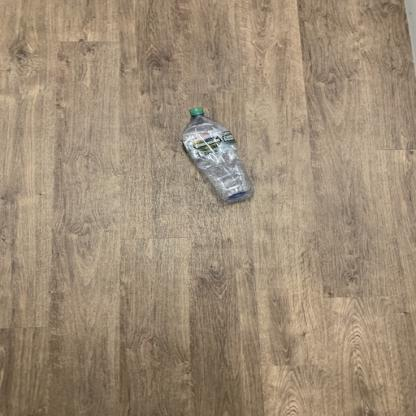trash: (181, 107, 256, 205)
